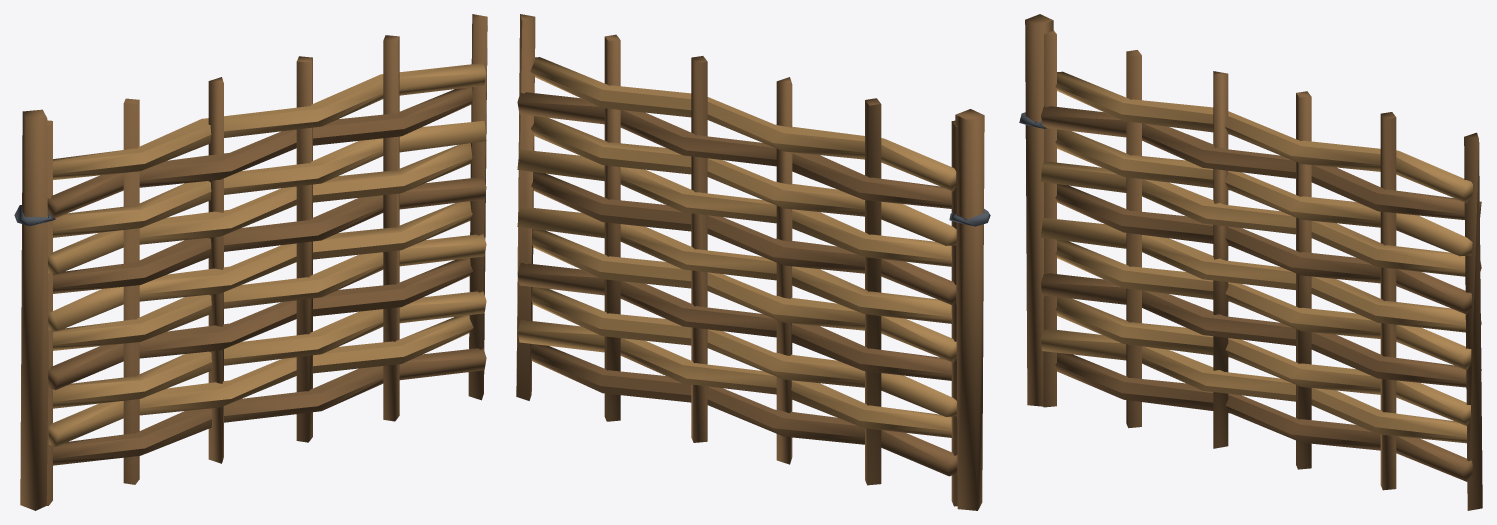
Rendered from fence-willow-gate.glb.
3 renders of one model, left to right at view 1: azimuth 30°, elevation 25°; view 2: azimuth 150°, elevation 25°; view 3: azimuth 330°, elevation 25°, orthographic. The views are drawn at different scales.
Visible parts, largest first — view 1: gate; view 2: gate; view 3: gate.
Boxes of the visible parts, bbox=[...] form: gate: bbox=[14, 14, 487, 510]; gate: bbox=[516, 14, 990, 510]; gate: bbox=[1019, 14, 1482, 510].
Bounding box in the file's own units: 0.9306 × 0.74 × 0.0892.
